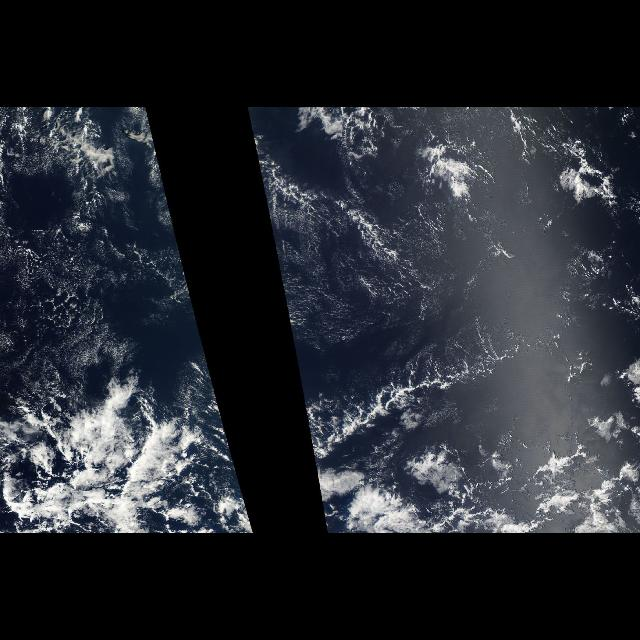Fish: (5, 333, 254, 533), (290, 333, 524, 533)
Sugar: (261, 162, 545, 350), (7, 163, 207, 374)
